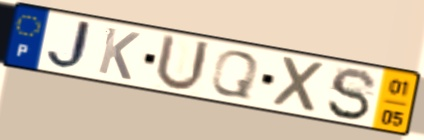J: (44, 19, 99, 73)
K: (95, 25, 143, 83)
Q: (207, 49, 262, 101)
S: (324, 66, 380, 123)
U: (151, 31, 213, 94)
X: (271, 54, 329, 116)
